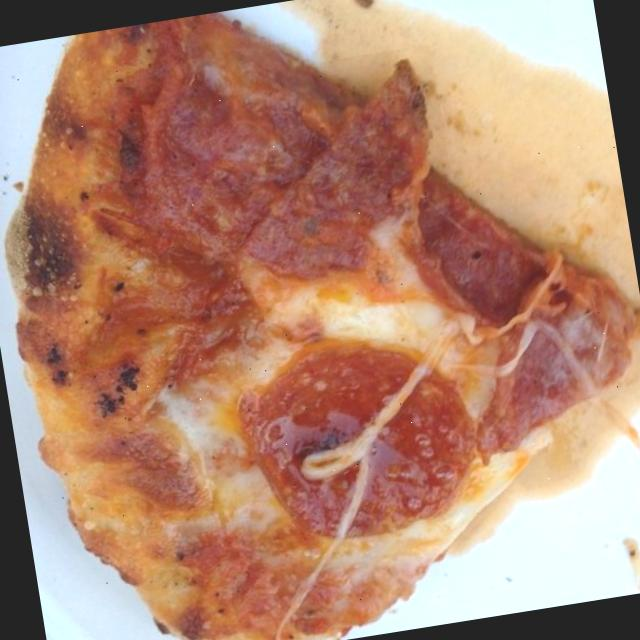pepperoni: (220, 44, 464, 293), (114, 38, 349, 278), (240, 326, 488, 546), (445, 270, 640, 462), (388, 142, 557, 356)
pizza: (6, 13, 640, 640)
